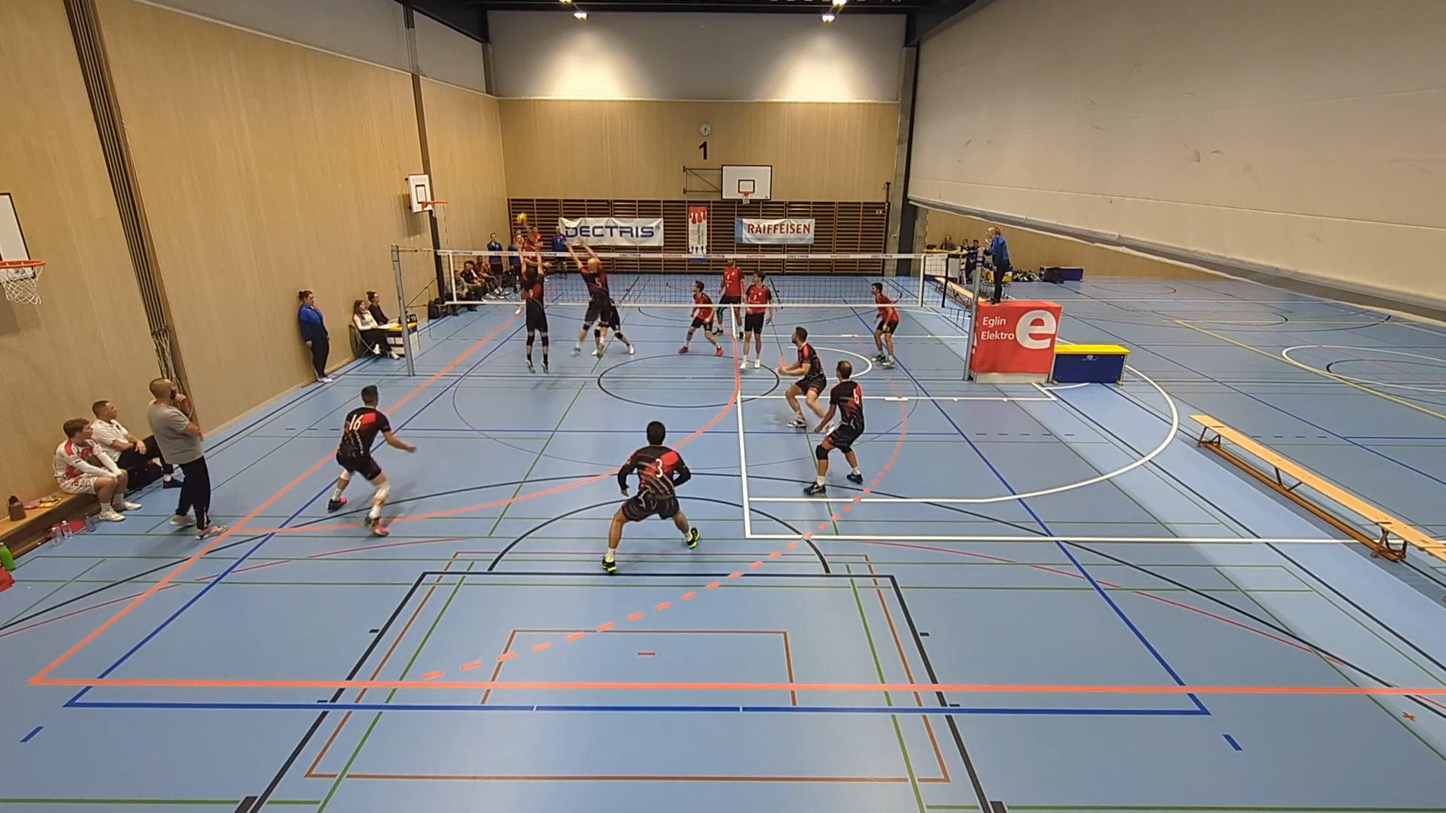attacco: (510, 228, 550, 319)
muro: (561, 237, 634, 360), (510, 229, 552, 373)
